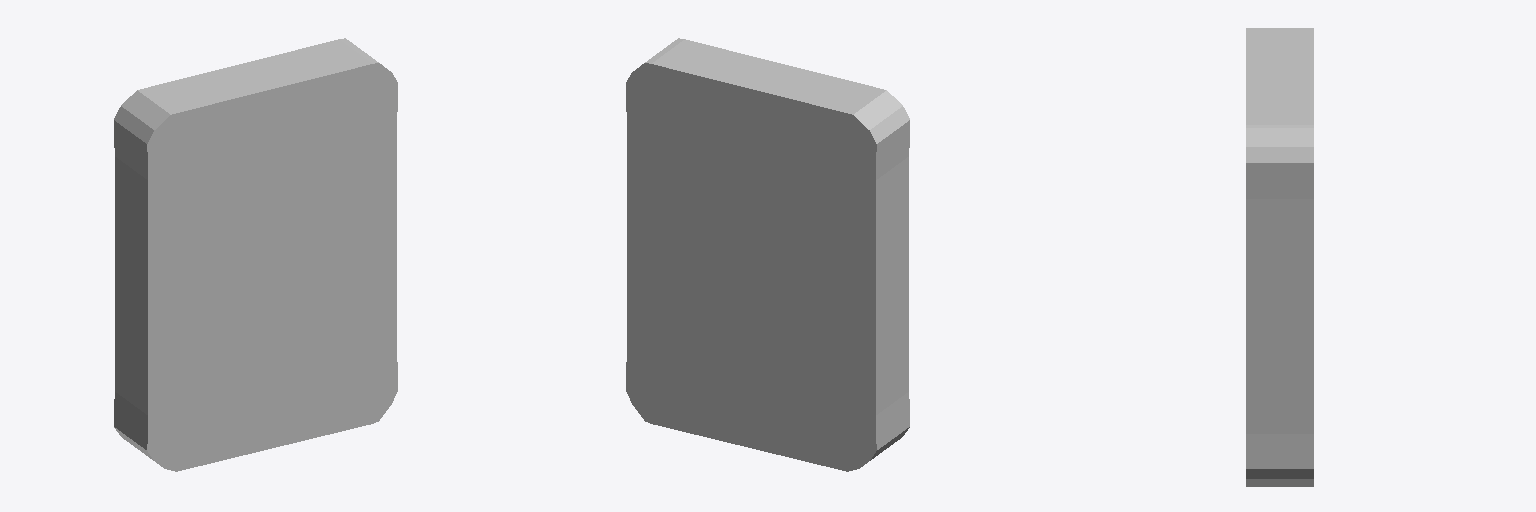
The model's file is weight_right_phy.obj.
3 renders of one model, left to right at view 1: azimuth 30°, elevation 25°; view 2: azimuth 150°, elevation 25°; view 3: azimuth 270°, elevation 25°, orthographic.
Parts seen in each view (by area): view 1: Weight_right_phy; view 2: Weight_right_phy; view 3: Weight_right_phy.
Part boxes in pixels (x1,y1,x2,y2): Weight_right_phy: (114, 38, 397, 471); Weight_right_phy: (626, 38, 909, 471); Weight_right_phy: (1246, 28, 1313, 486).
Size of the model in its own units: 0.0434 by 0.0594 by 0.0101.